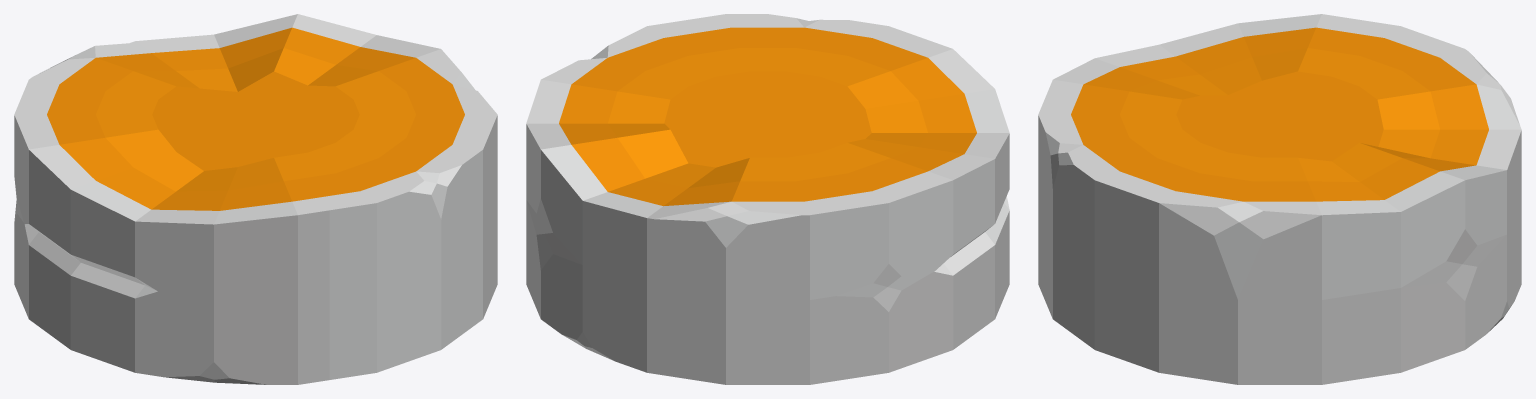
Rendered from Tree log_15.fbx.
3 renders of one model, left to right at view 1: azimuth 30°, elevation 25°; view 2: azimuth 150°, elevation 25°; view 3: azimuth 270°, elevation 25°, orthographic.
Parts seen in each view (by area): view 1: Circle.202; view 2: Circle.202; view 3: Circle.202.
Part boxes in pixels (x1,y1,x2,y2): Circle.202: [14, 14, 497, 384]; Circle.202: [526, 14, 1009, 384]; Circle.202: [1038, 14, 1521, 384].
Bounding box in the file's own units: 23.2 × 9.13 × 23.56.
